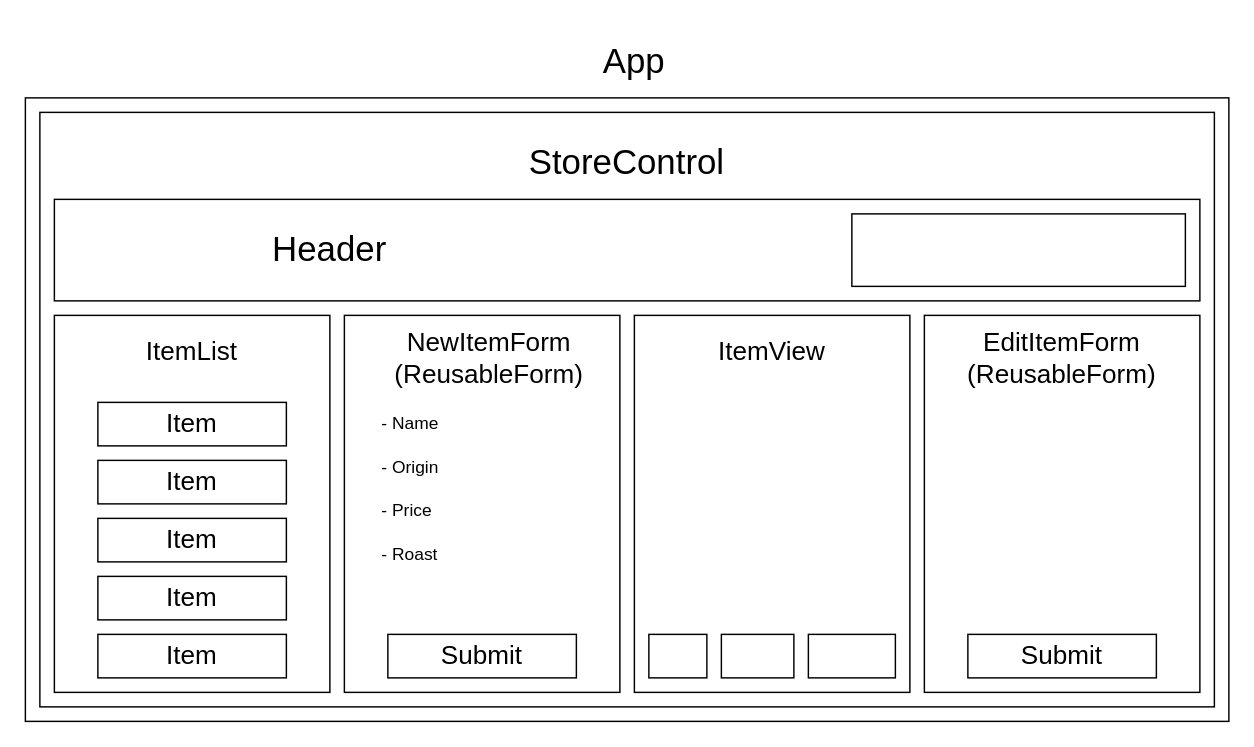
Some shapes in this 1254 by 747 pixel diagram are drawn without their labels. The shapes that lost their labels are listed below. From the top down, each one's centre as x and y in pixels, then its label:
point (1017, 249): State Button (New Item, Return to Item List)
point (677, 655): Buy
point (757, 655): Edit
point (851, 655): Delete
